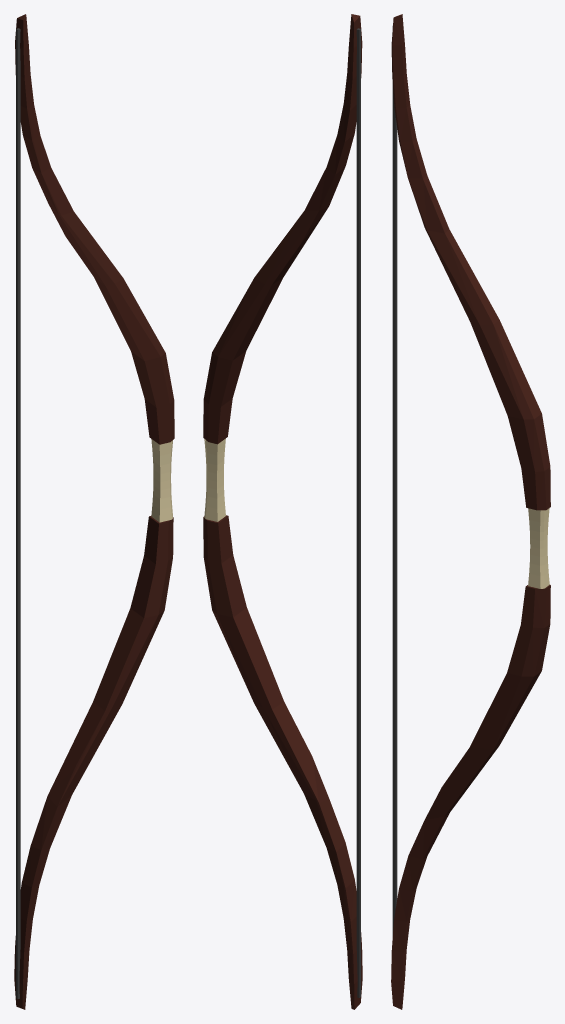
File: 005_Bow.fbx
3 views of the same model, side by side, from view 1: azimuth 30°, elevation 25°; view 2: azimuth 150°, elevation 25°; view 3: azimuth 330°, elevation 25° (orthographic).
Visible parts, largest first — view 1: Bow; view 2: Bow; view 3: Bow.
Boxes of the visible parts, <box> form: Bow: <box>14,14,174,1009</box>; Bow: <box>203,14,362,1009</box>; Bow: <box>391,14,550,1009</box>.
Size of the model in its own units: 24.78 by 152 by 3.8.
